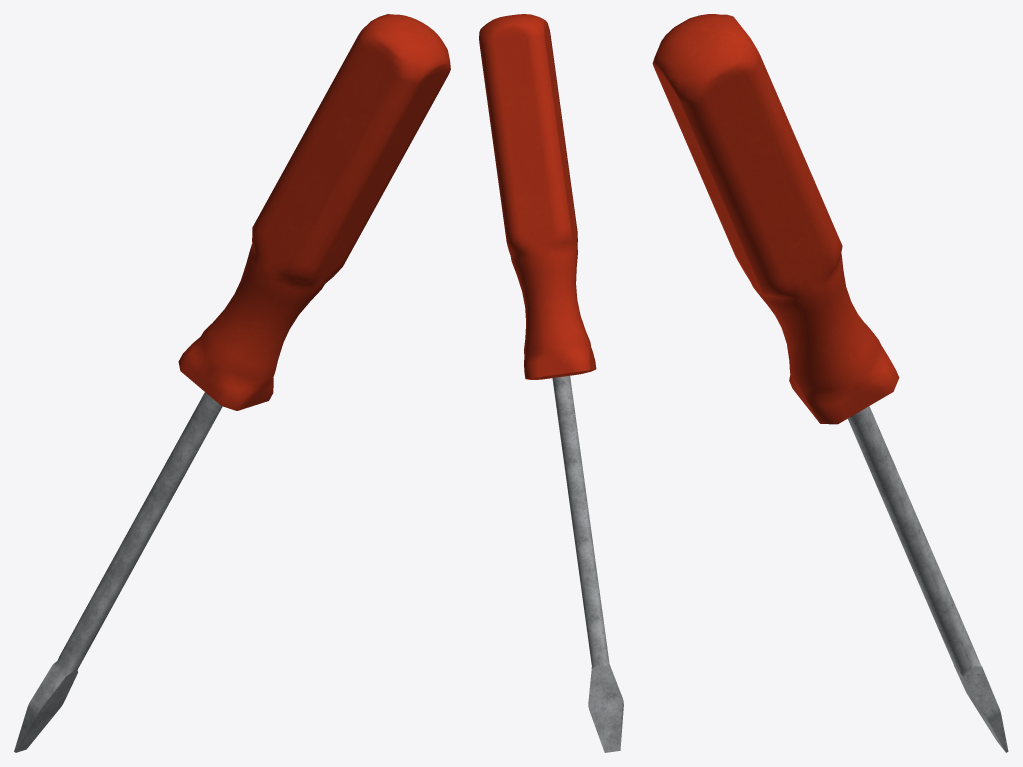
File: cc0_-_screwdriver_1k.glb
3 renders of one model, left to right at view 1: azimuth 30°, elevation 25°; view 2: azimuth 150°, elevation 25°; view 3: azimuth 270°, elevation 25°, orthographic. The views are drawn at different scales.
Visible parts, largest first — view 1: Screwdriver; view 2: Screwdriver; view 3: Screwdriver.
Part boxes in pixels (box(x1,y1,x2,y2)): Screwdriver: box(14, 14, 450, 752); Screwdriver: box(479, 14, 623, 752); Screwdriver: box(652, 14, 1008, 752).
Size of the model in its own units: 0.0904 by 0.2194 by 0.082.
1 material, 1 textured.
